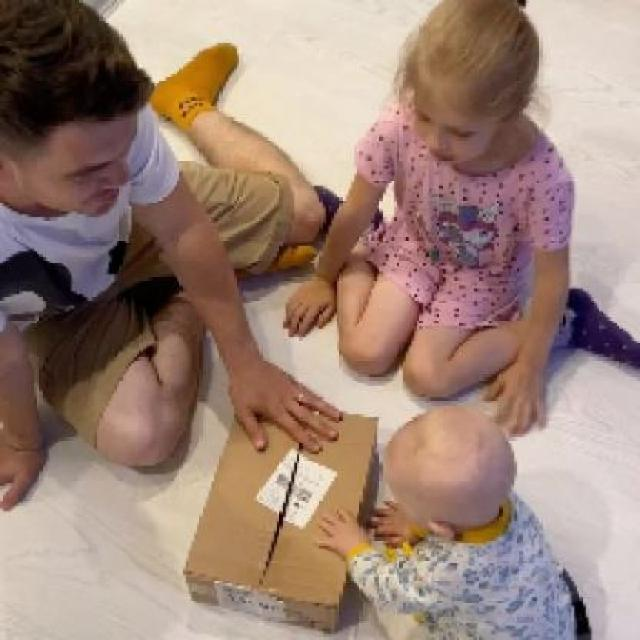child: (280, 1, 640, 436), (311, 405, 580, 638)
